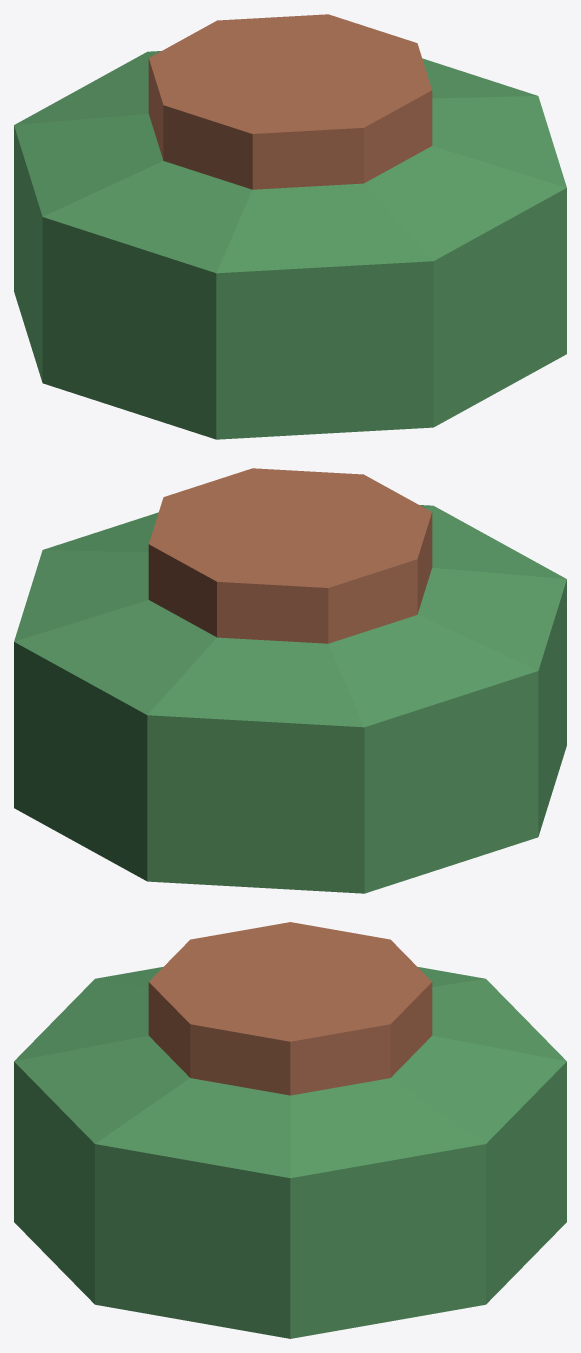
The model's file is Mine.fbx.
The picture shows the model from 3 angles, top to bottom: view 1: azimuth 30°, elevation 25°; view 2: azimuth 150°, elevation 25°; view 3: azimuth 270°, elevation 25°; orthographic projection. The views are drawn at different scales.
Parts seen in each view (by area): view 1: Mine; view 2: Mine; view 3: Mine.
Part boxes in pixels (box(x1,y1,x2,y2)): Mine: box(14, 14, 566, 439); Mine: box(14, 468, 566, 893); Mine: box(14, 922, 566, 1338).
Bounding box in the file's own units: 2 × 0.9585 × 2.
Materials: 1 (1 with a texture image).
